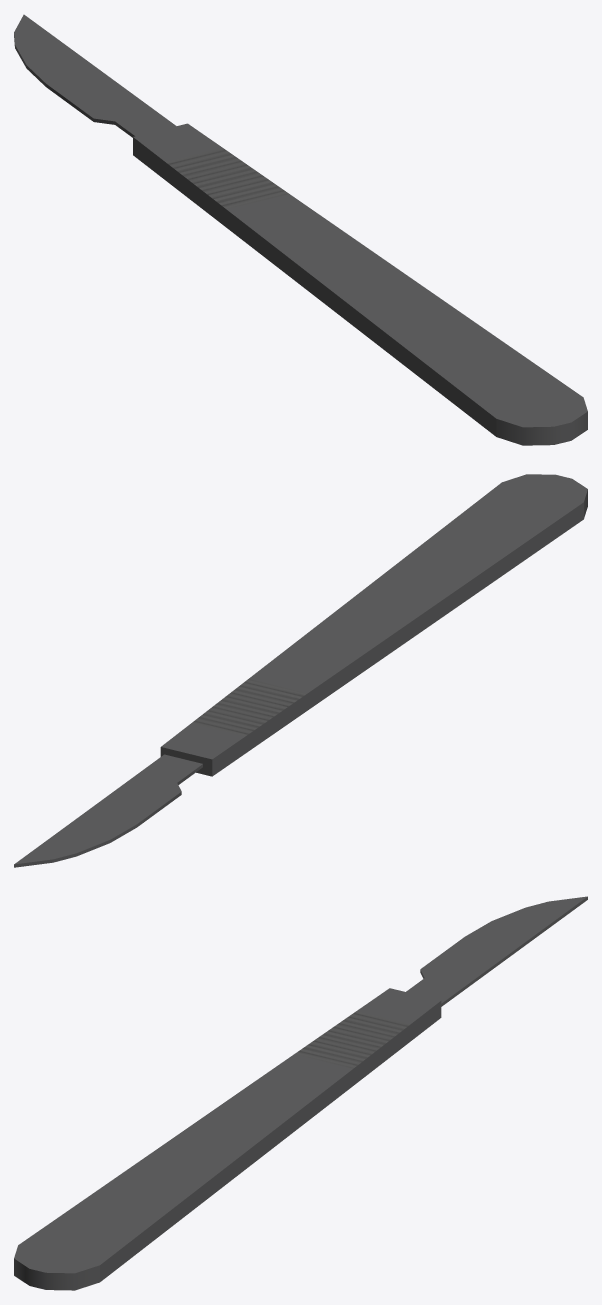
Rendered from BP knife.FBX.
3 renders of one model, top to bottom at view 1: azimuth 30°, elevation 25°; view 2: azimuth 150°, elevation 25°; view 3: azimuth 330°, elevation 25°, orthographic. The views are drawn at different scales.
Parts seen in each view (by area): view 1: BP knife; view 2: BP knife; view 3: BP knife.
Part boxes in pixels (x1,y1,x2,y2): BP knife: (14,14,587,445); BP knife: (14,474,587,867); BP knife: (14,896,587,1290).
Size of the model in its own units: 0.7473 by 8.35 by 0.15.
